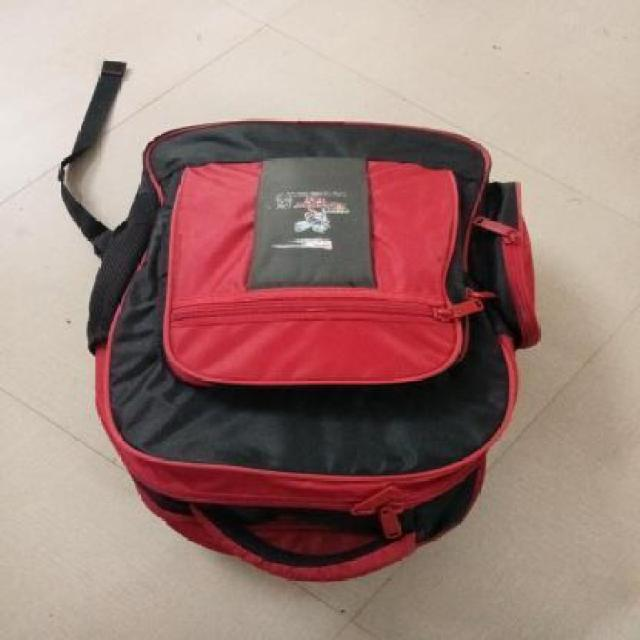backpack: (80, 112, 546, 588)
